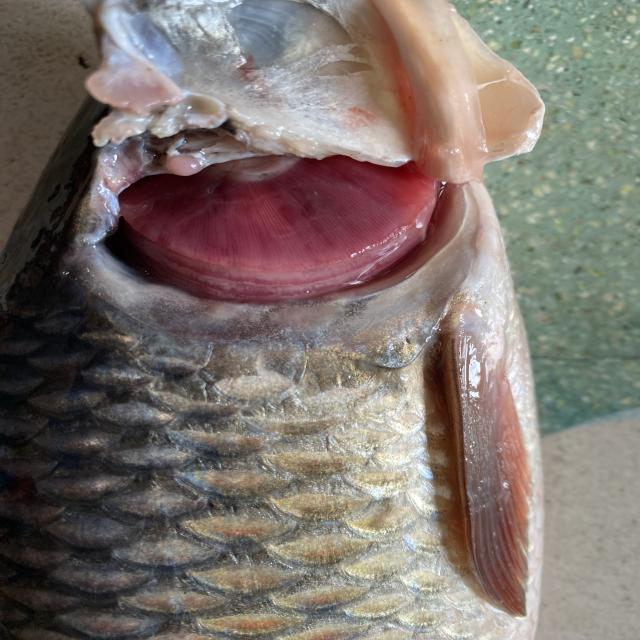Fresh: (91, 127, 477, 322)
